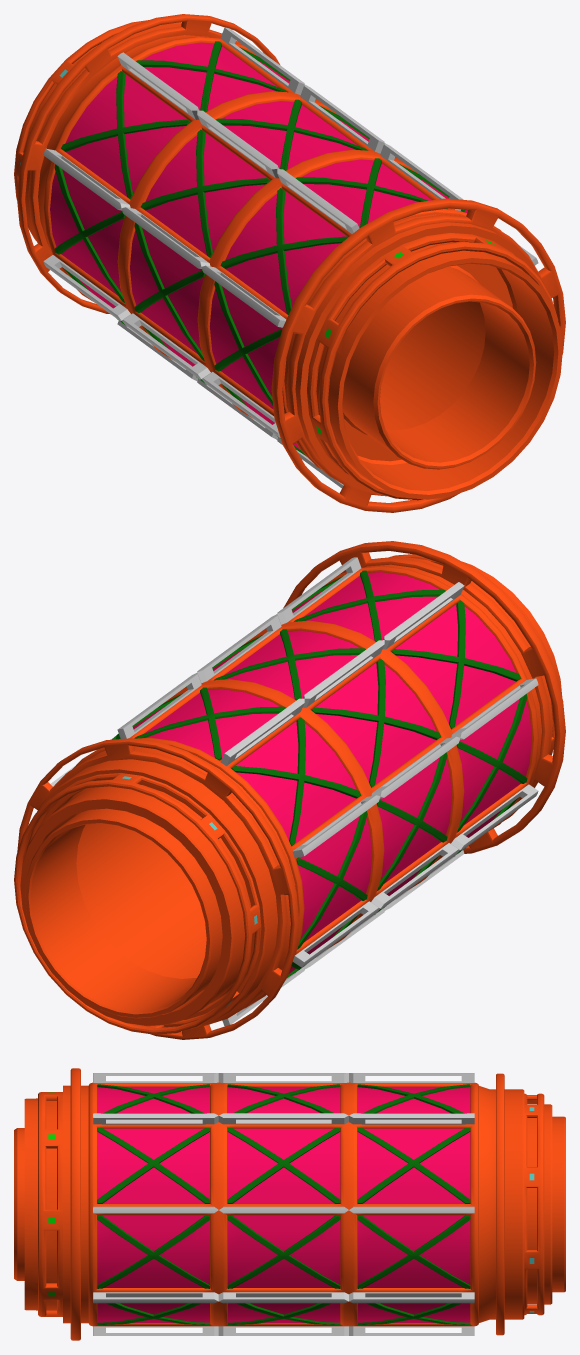
File: OpenModule.obj
3 views of the same model, one above another, from view 1: azimuth 30°, elevation 25°; view 2: azimuth 150°, elevation 25°; view 3: azimuth 270°, elevation 25° (orthographic). The views are drawn at different scales.
Parts seen in each view (by area): view 1: Cylinder.099_Material.049, Cylinder.099_Material.062, Cylinder.099_Material.063, Cylinder.099_Material.058; view 2: Cylinder.099_Material.049, Cylinder.099_Material.062, Cylinder.099_Material.063, Cylinder.099_Material.058; view 3: Cylinder.099_Material.049, Cylinder.099_Material.062, Cylinder.099_Material.058, Cylinder.099_Material.063.
Part boxes in pixels (x1,y1,x2,y2): Cylinder.099_Material.049: [14, 14, 565, 512]; Cylinder.099_Material.062: [50, 42, 467, 449]; Cylinder.099_Material.063: [54, 41, 468, 456]; Cylinder.099_Material.058: [43, 27, 538, 488]; Cylinder.099_Material.049: [14, 541, 565, 1039]; Cylinder.099_Material.062: [116, 572, 531, 973]; Cylinder.099_Material.063: [112, 570, 527, 977]; Cylinder.099_Material.058: [50, 557, 538, 1026]; Cylinder.099_Material.049: [14, 1068, 565, 1340]; Cylinder.099_Material.062: [97, 1086, 470, 1322]; Cylinder.099_Material.058: [93, 1073, 474, 1335]; Cylinder.099_Material.063: [97, 1084, 470, 1325].
Size of the model in its own units: 4.63 by 4.63 by 9.38.
